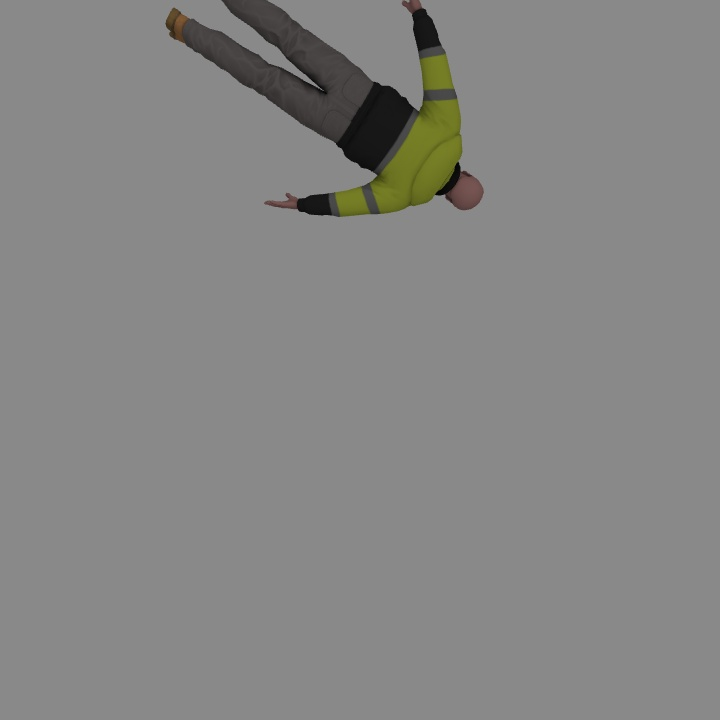victim: (167, 1, 482, 213)
